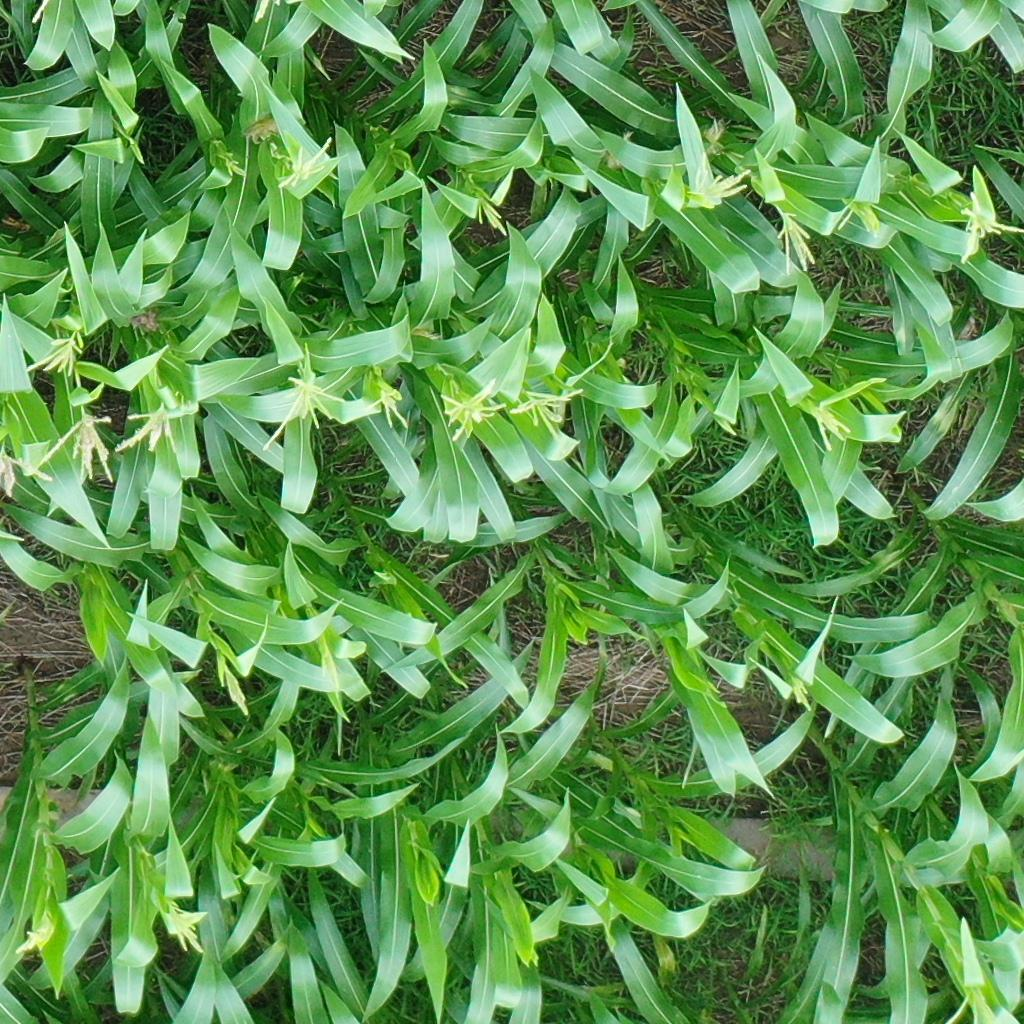Tassel: (260, 372, 344, 450), (28, 415, 119, 487), (958, 191, 1023, 264), (437, 378, 507, 441), (511, 381, 582, 442), (682, 154, 754, 209), (113, 411, 203, 451), (279, 137, 332, 188), (775, 210, 817, 274), (25, 332, 84, 376), (359, 388, 416, 432), (1, 452, 55, 498), (813, 401, 855, 455), (946, 984, 995, 1024), (837, 200, 883, 237), (169, 906, 203, 955), (222, 664, 253, 714), (474, 197, 508, 234), (790, 675, 819, 717), (17, 923, 53, 954), (223, 161, 247, 178)
